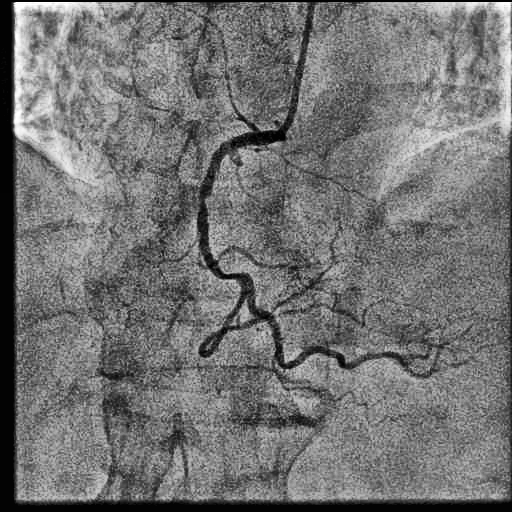rca: (197, 131, 402, 369)
